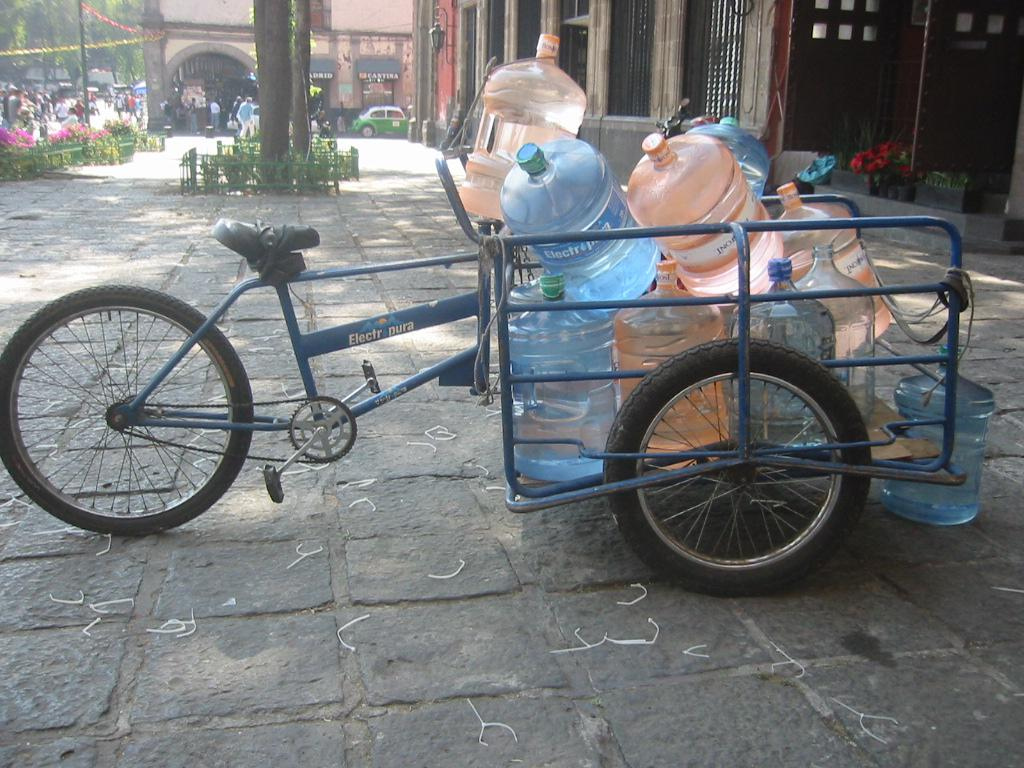Person: (0, 86, 345, 138)
